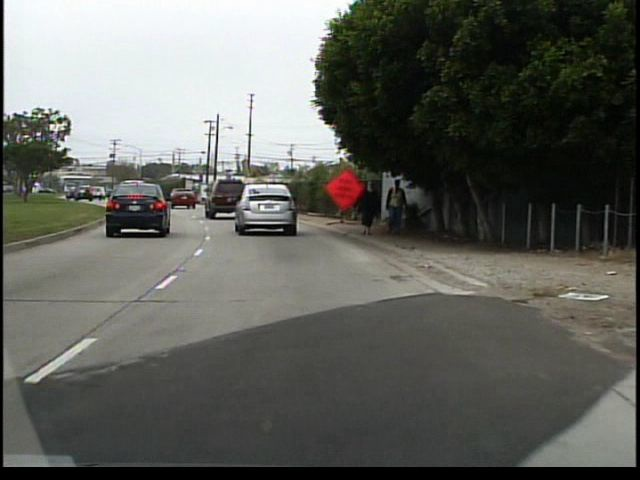person: (348, 174, 383, 241), (383, 178, 409, 240)
